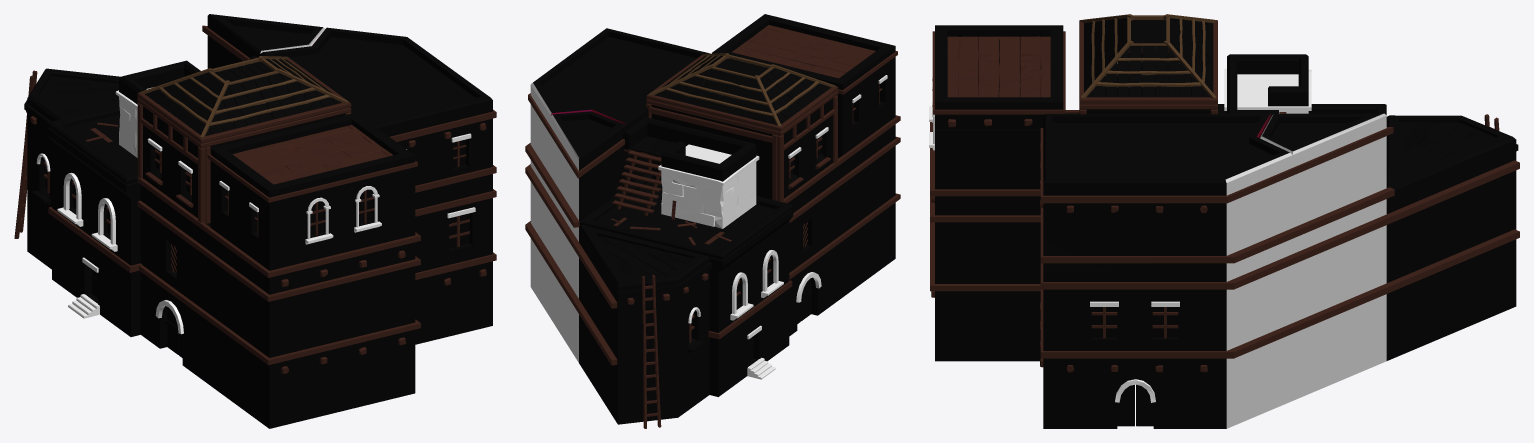
The model's file is civilian_house_15.FBX.
The picture shows the model from 3 angles, left to right: view 1: azimuth 30°, elevation 25°; view 2: azimuth 150°, elevation 25°; view 3: azimuth 270°, elevation 25°; orthographic projection. The views are drawn at different scales.
Visible parts, largest first — view 1: civilian_house_15; view 2: civilian_house_15; view 3: civilian_house_15.
Boxes of the visible parts, x1,y1,x2,y2 form: civilian_house_15: (14,14,496,428); civilian_house_15: (525,14,900,428); civilian_house_15: (929,14,1519,428).
Bounding box in the file's own units: 1657 × 1418 × 2581.
